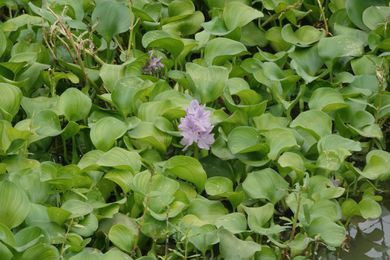water_hyacinth: (1, 1, 389, 260)
